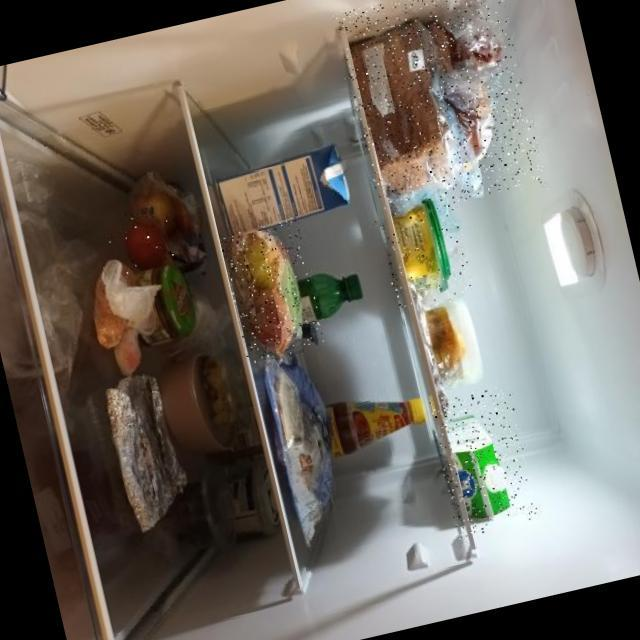Mantequilla: (369, 182, 474, 311)
